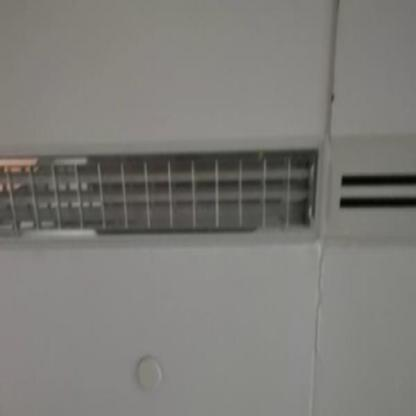light_off: (0, 118, 324, 270)
